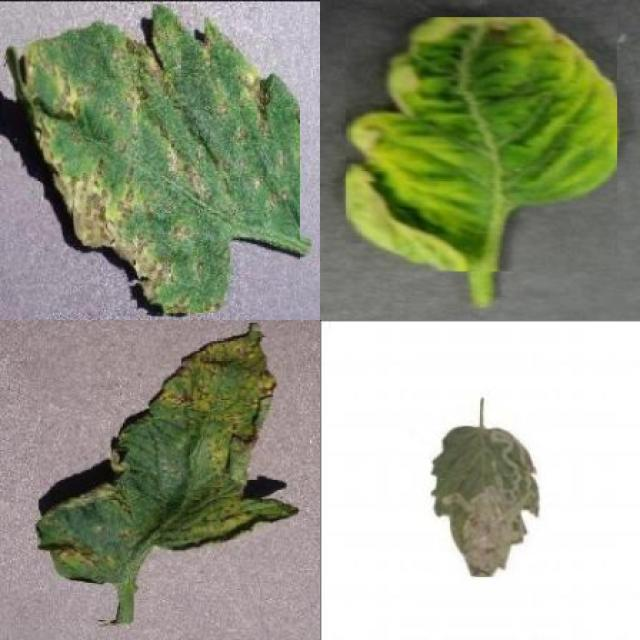Leaf Miner: (430, 426, 541, 577)
Septoria: (6, 5, 300, 314), (37, 324, 299, 584)
Yellow Leaf Curl Virus: (346, 17, 618, 272)
